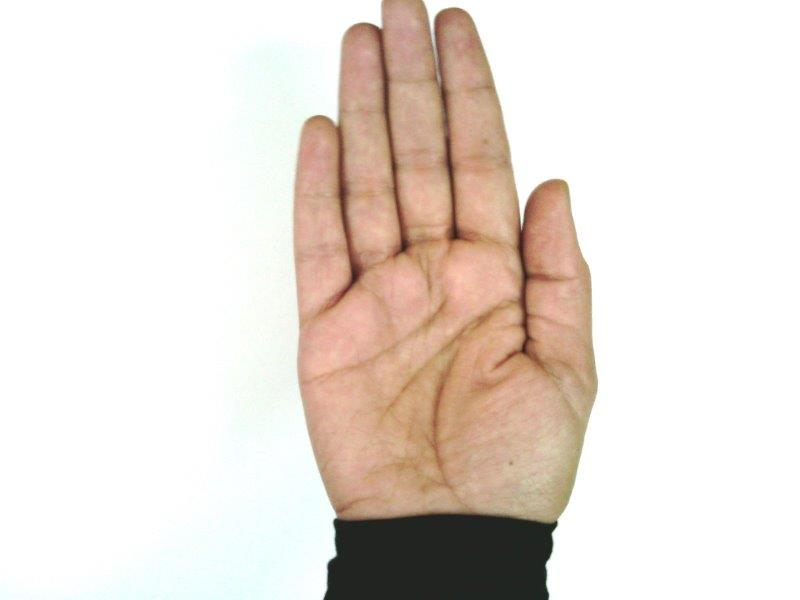hand: (294, 1, 600, 527)
